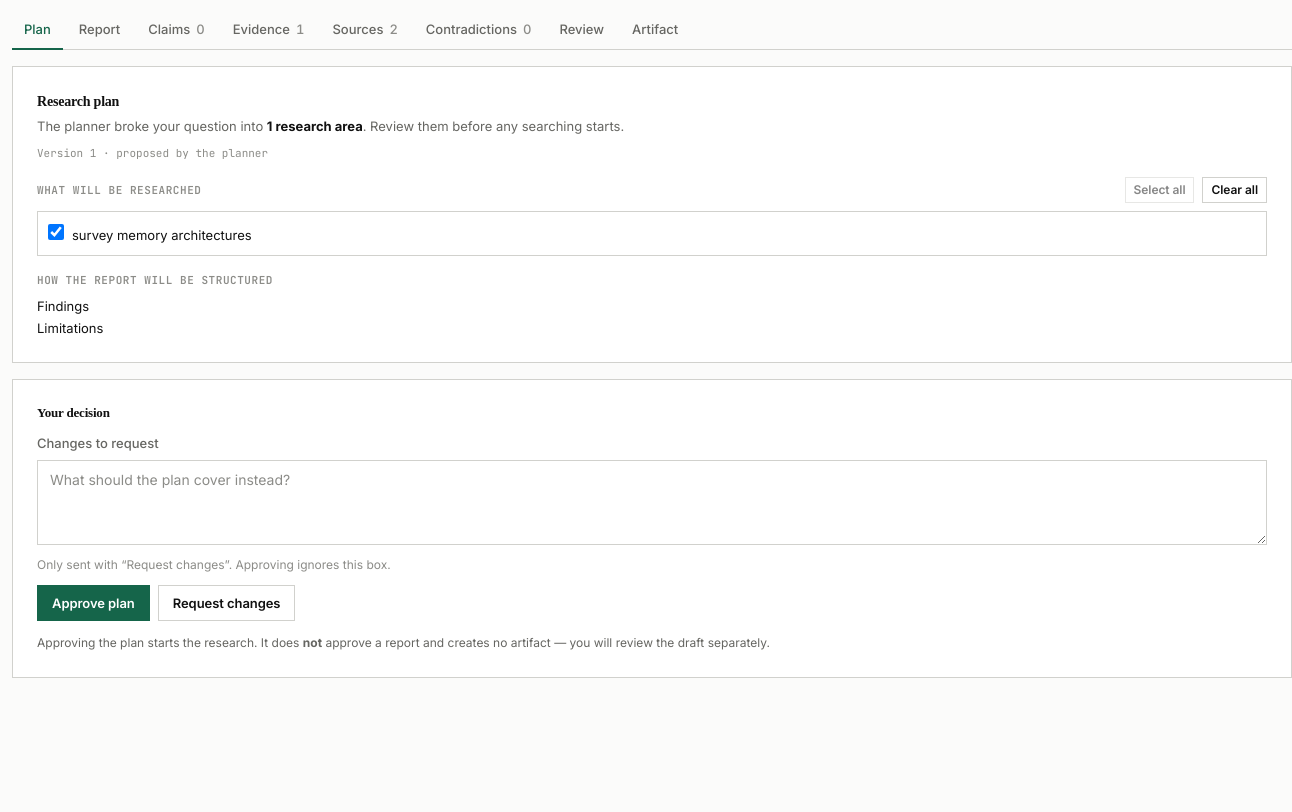
Test: Plan gate › blocks approval again once Clear all empties the plan
The width and height of the screenshot is (1292, 812).
Expected: the button "Approve plan" is enabled, 37,585 -> 150,621
Click the button "Clear all": (1235, 190) 1202,177 -> 1267,203
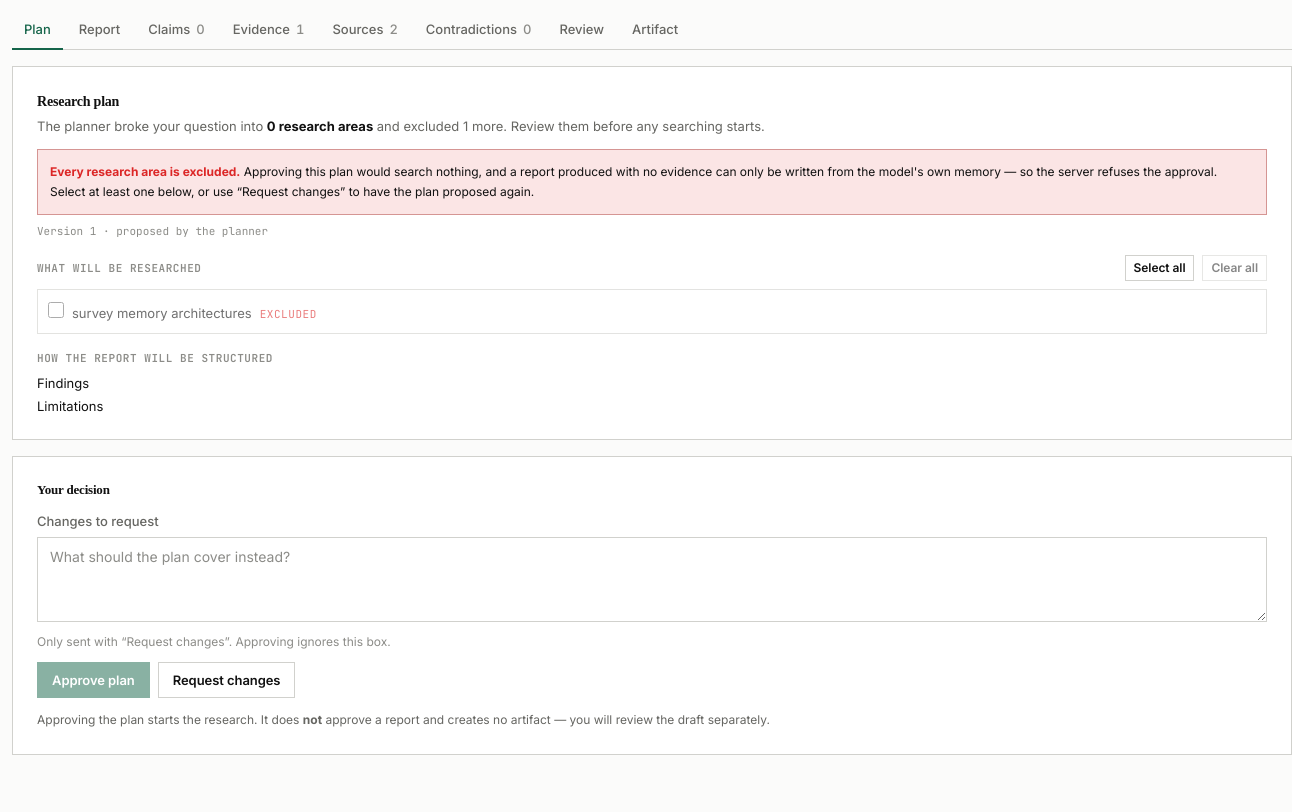
Expected: the button "Approve plan" is disabled, 37,662 -> 150,698
Expected: the message shows "Every research area is excluded", 50,164 -> 240,179
